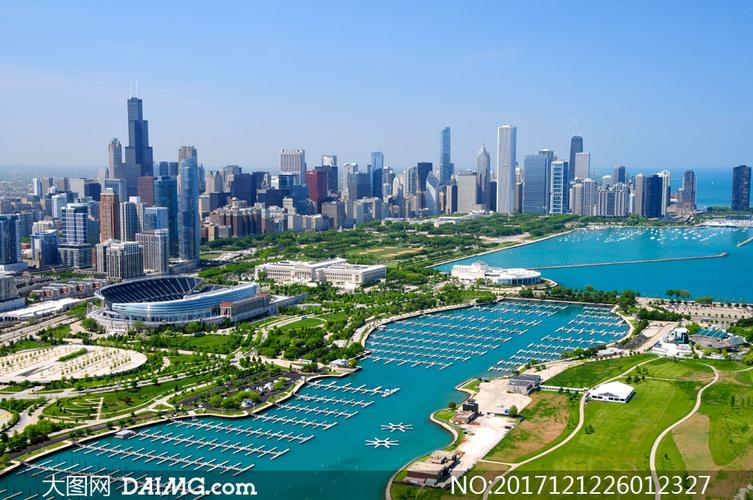buildings: (105, 93, 171, 293), (43, 180, 101, 270), (275, 144, 306, 206)
